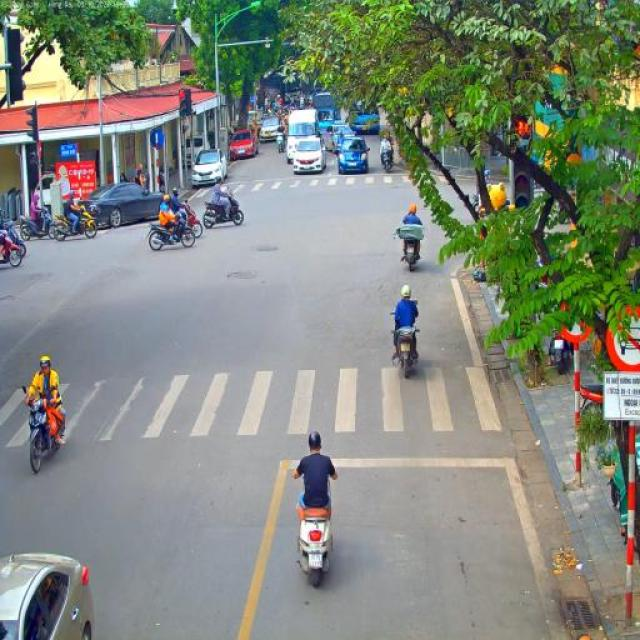car: (0, 551, 95, 640), (76, 181, 162, 229), (192, 148, 228, 186), (292, 135, 327, 174), (336, 135, 370, 175), (320, 124, 356, 152), (227, 130, 259, 160), (260, 118, 280, 142)
motorcycle: (297, 481, 334, 588), (21, 385, 65, 474), (390, 300, 420, 380), (148, 212, 196, 250), (202, 190, 244, 230), (54, 204, 98, 242), (20, 206, 56, 240), (548, 327, 572, 374), (2, 218, 27, 257), (0, 228, 24, 268), (578, 383, 602, 417), (399, 238, 422, 272), (184, 202, 203, 238), (380, 148, 394, 174), (276, 134, 285, 154), (300, 99, 304, 110)
truck: (286, 108, 320, 164), (348, 95, 381, 135), (313, 93, 337, 136)
